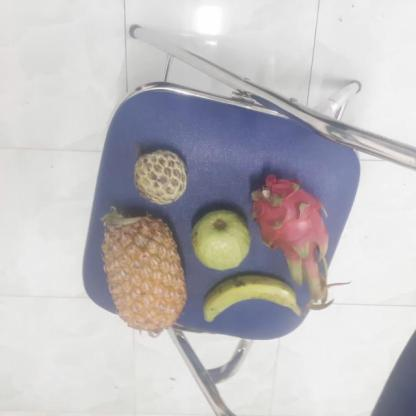annona: (129, 149, 186, 204)
guava: (188, 207, 252, 272)
pineapple: (98, 210, 187, 330)
pitaya: (248, 177, 330, 289)
